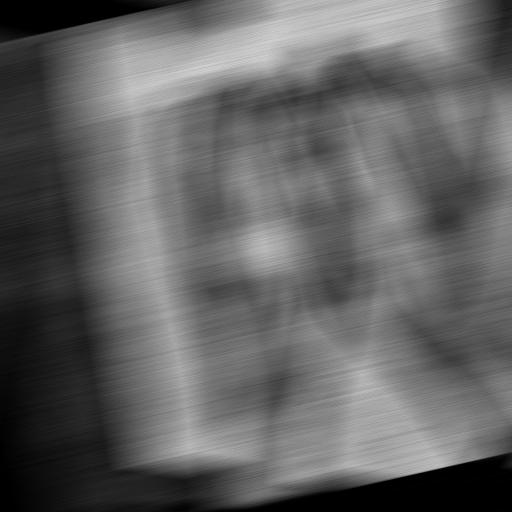bottom_left: (135, 455, 164, 465)
mobile: (184, 0, 444, 476)
